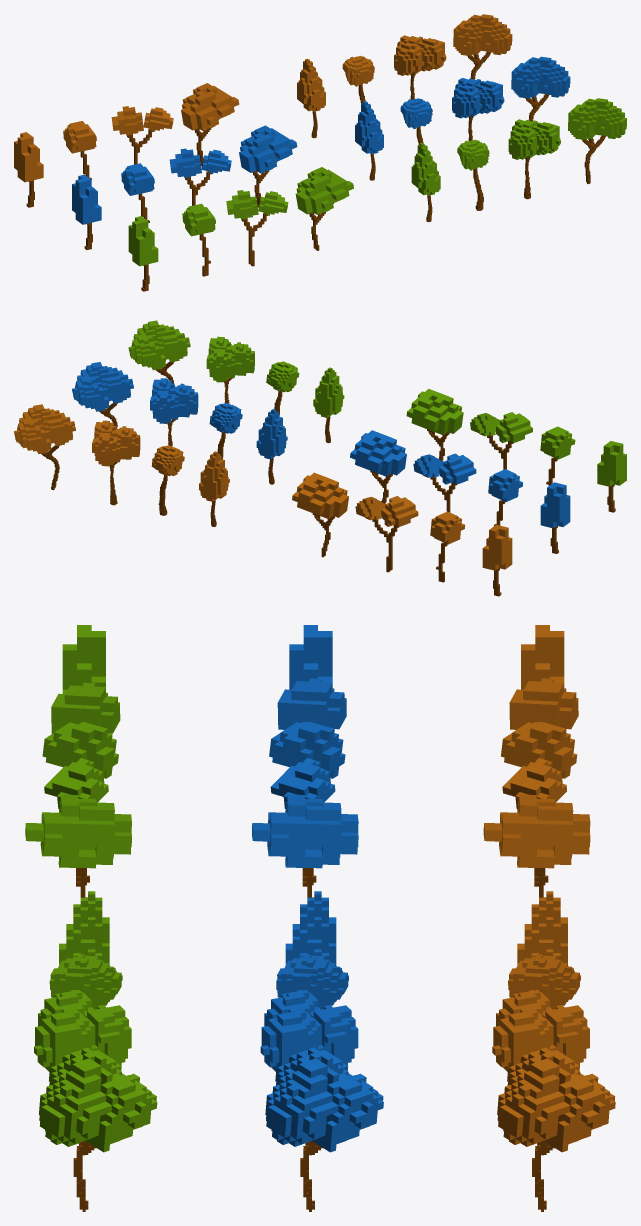
The picture shows the model from 3 angles, top to bottom: view 1: azimuth 30°, elevation 25°; view 2: azimuth 150°, elevation 25°; view 3: azimuth 270°, elevation 25°; orthographic projection. The views are drawn at different scales.
Parts seen in each view (by area): view 1: Voxeltree_04_green, Voxeltree_04_orange, Voxeltree_04_blue, Blockytree_04_green, Blockytree_04_orange, Blockytree_04_blue, Voxeltree_03_green, Voxeltree_03_orange, Voxeltree_03_blue, Blockytree_03_green, Blockytree_03_orange, Blockytree_03_blue (+12 smaller); view 2: Voxeltree_04_orange, Voxeltree_04_blue, Voxeltree_04_green, Blockytree_04_orange, Blockytree_04_blue, Blockytree_04_green, Voxeltree_03_orange, Voxeltree_03_blue, Voxeltree_03_green, Blockytree_03_orange, Blockytree_03_blue, Blockytree_03_green (+12 smaller); view 3: Voxeltree_04_green, Voxeltree_04_blue, Voxeltree_04_orange, Blockytree_04_blue, Blockytree_04_orange, Blockytree_04_green, Voxeltree_03_blue, Voxeltree_03_green, Voxeltree_03_orange, Blockytree_03_orange, Blockytree_03_green, Blockytree_03_blue (+12 smaller).
Boxes of the visible parts, left/top/right/bottom form: Voxeltree_04_green: left=568, top=98, right=626, bottom=183; Voxeltree_04_orange: left=453, top=14, right=512, bottom=79; Voxeltree_04_blue: left=511, top=56, right=570, bottom=121; Blockytree_04_green: left=295, top=167, right=353, bottom=250; Blockytree_04_orange: left=181, top=83, right=239, bottom=165; Blockytree_04_blue: left=239, top=125, right=297, bottom=207; Voxeltree_03_green: left=508, top=119, right=560, bottom=199; Voxeltree_03_orange: left=394, top=35, right=446, bottom=99; Voxeltree_03_blue: left=452, top=78, right=504, bottom=140; Blockytree_03_green: left=226, top=190, right=288, bottom=266; Blockytree_03_orange: left=111, top=106, right=173, bottom=164; Blockytree_03_blue: left=169, top=148, right=231, bottom=205; Voxeltree_04_orange: left=14, top=404, right=75, bottom=490; Voxeltree_04_blue: left=72, top=362, right=133, bottom=428; Voxeltree_04_green: left=128, top=320, right=190, bottom=383; Blockytree_04_orange: left=292, top=472, right=348, bottom=557; Blockytree_04_blue: left=350, top=430, right=406, bottom=503; Blockytree_04_green: left=406, top=389, right=463, bottom=460; Voxeltree_03_orange: left=92, top=420, right=140, bottom=505; Voxeltree_03_blue: left=150, top=378, right=198, bottom=446; Voxeltree_03_green: left=206, top=336, right=254, bottom=403; Blockytree_03_orange: left=355, top=496, right=418, bottom=572; Blockytree_03_blue: left=413, top=453, right=476, bottom=512; Blockytree_03_green: left=470, top=412, right=532, bottom=469; Voxeltree_04_green: left=39, top=1047, right=157, bottom=1211; Voxeltree_04_blue: left=265, top=1047, right=383, bottom=1211; Voxeltree_04_orange: left=497, top=1047, right=615, bottom=1211; Blockytree_04_blue: left=252, top=794, right=358, bottom=897; Blockytree_04_orange: left=483, top=794, right=590, bottom=897; Blockytree_04_green: left=25, top=794, right=131, bottom=897; Voxeltree_03_blue: left=260, top=990, right=358, bottom=1148; Voxeltree_03_green: left=34, top=990, right=131, bottom=1148; Voxeltree_03_orange: left=492, top=990, right=589, bottom=1148; Blockytree_03_orange: left=501, top=721, right=577, bottom=885; Blockytree_03_green: left=42, top=722, right=118, bottom=885; Blockytree_03_blue: left=269, top=721, right=345, bottom=885.
Bounding box in the file's own units: 68.4 × 10.8 × 35.82.
